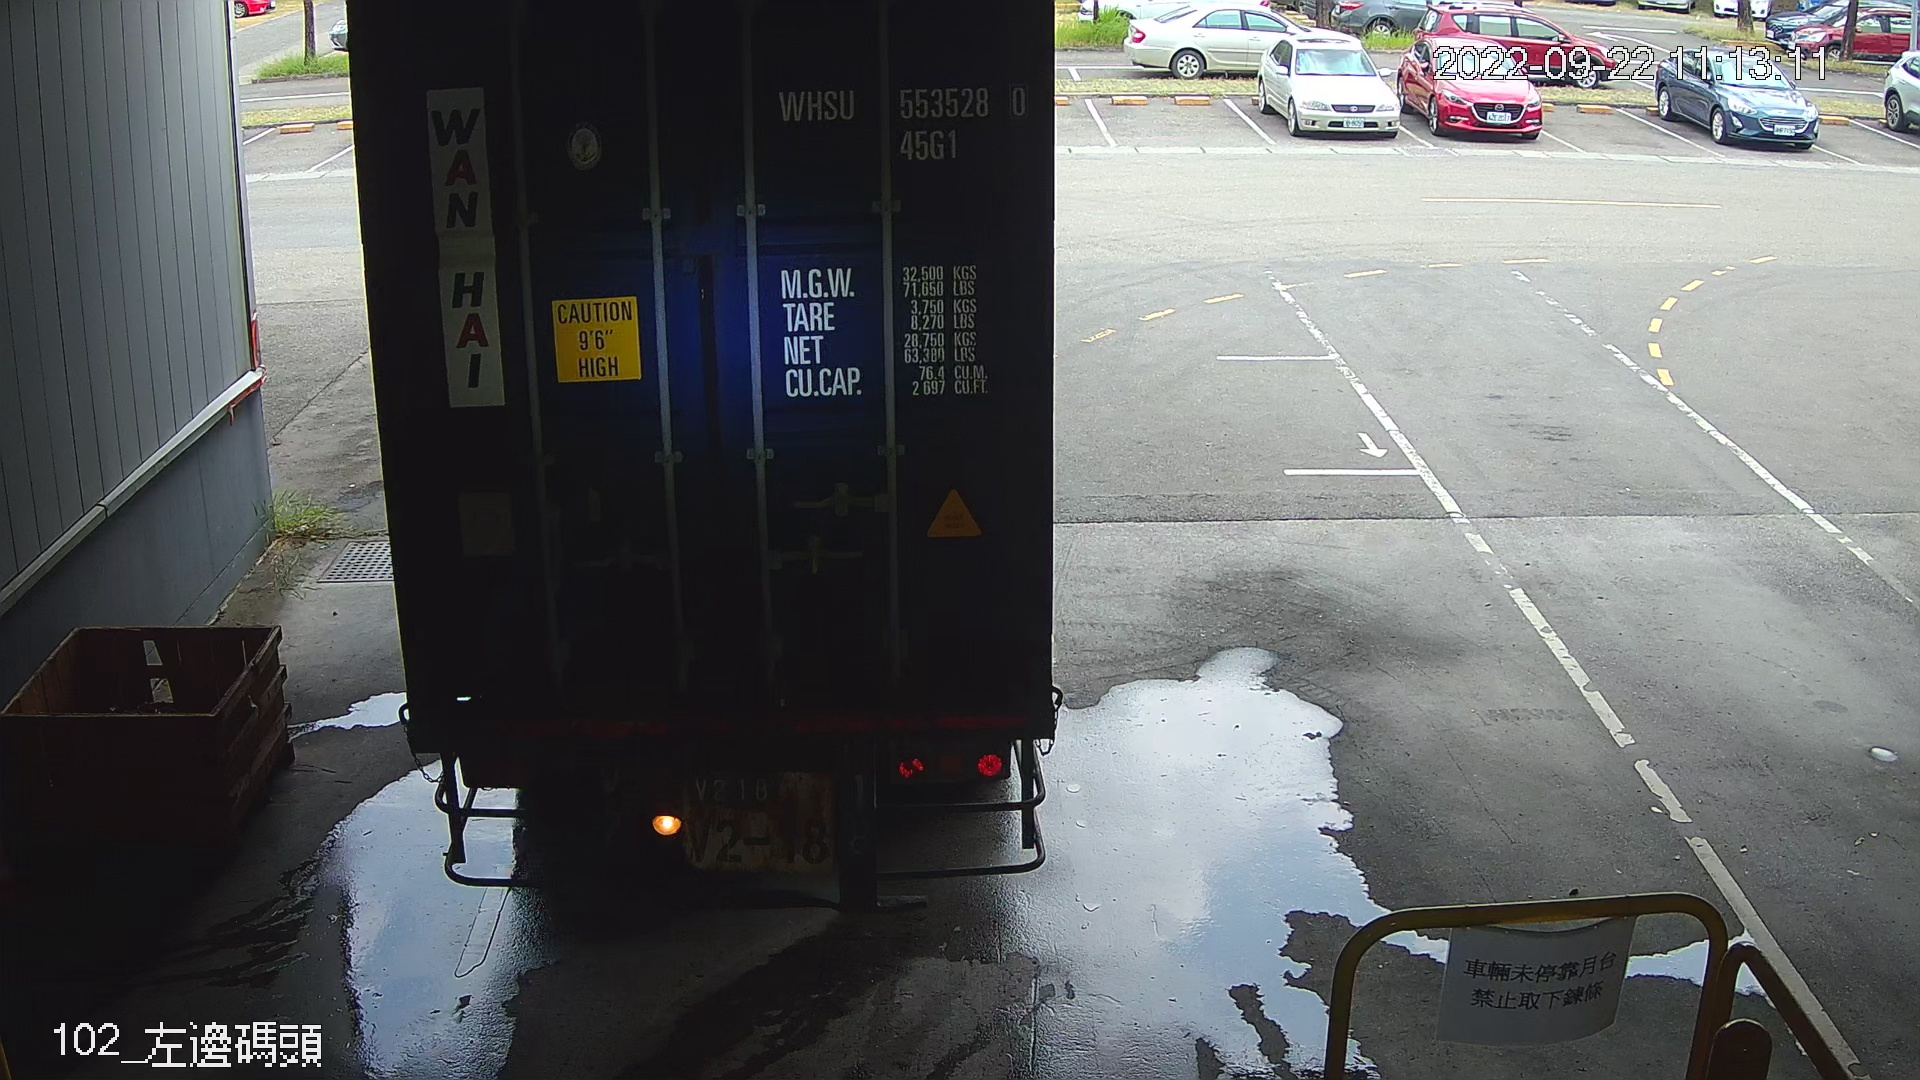container: (975, 160, 1110, 218)
